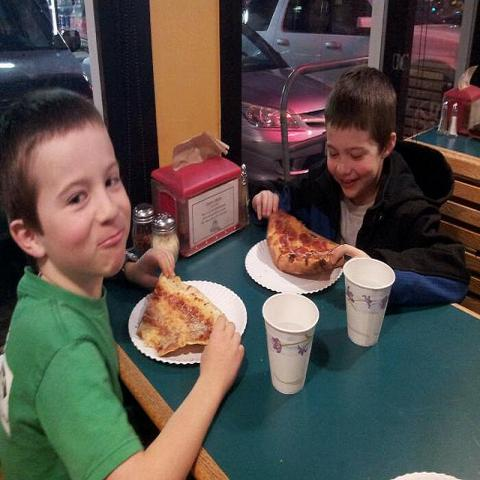car: (82, 23, 335, 187), (243, 0, 374, 91), (4, 3, 90, 102), (69, 0, 88, 52)
